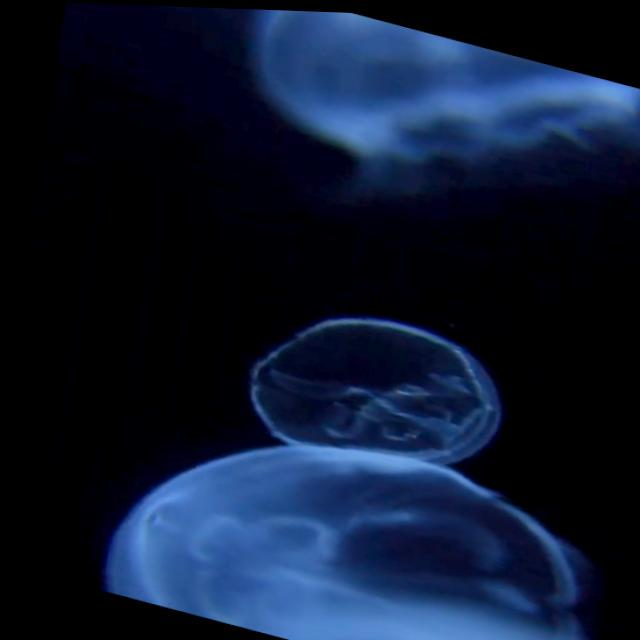Moon-jellyfish: (98, 442, 583, 640)
